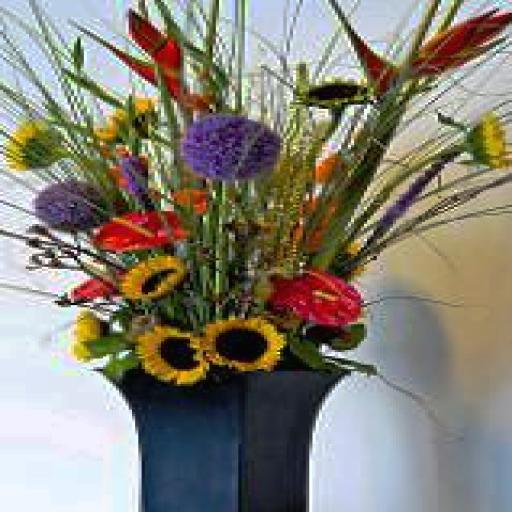sunflower: (196, 316, 284, 373), (132, 327, 209, 386), (3, 115, 61, 171), (463, 115, 512, 168), (126, 256, 184, 297)
